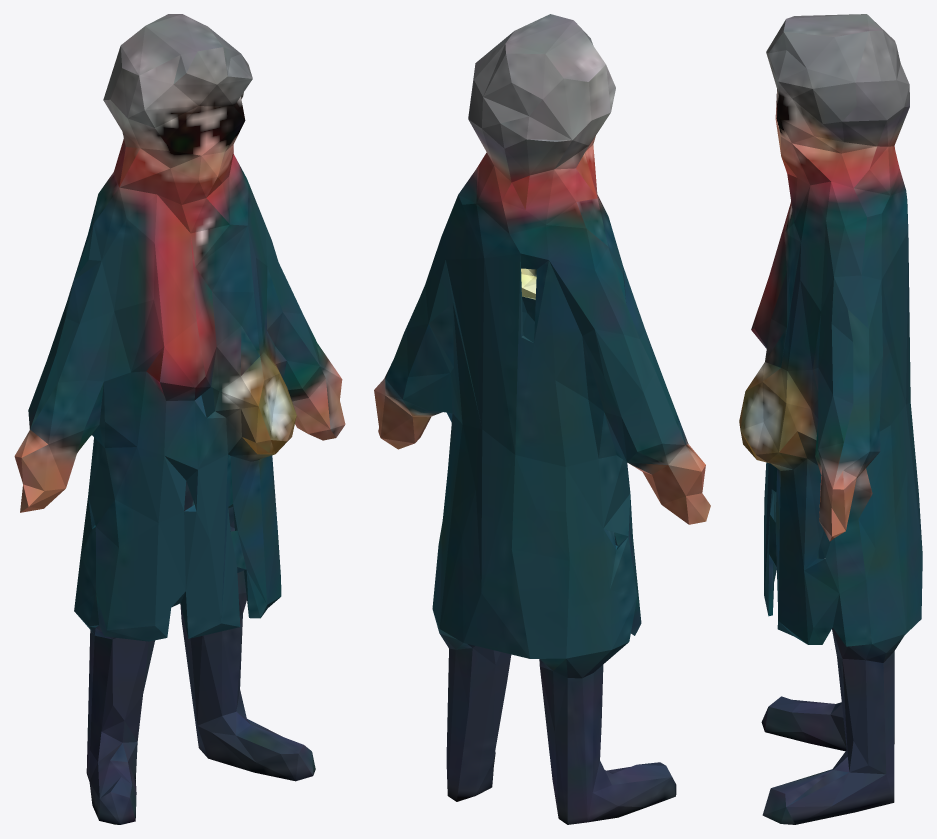
The model's file is habitant-loin.glb.
3 views of the same model, side by side, from view 1: azimuth 30°, elevation 25°; view 2: azimuth 150°, elevation 25°; view 3: azimuth 270°, elevation 25° (orthographic).
Visible parts, largest first — view 1: habitant; view 2: habitant; view 3: habitant.
Part boxes in pixels (x1=…): habitant: x1=14, y1=14, x2=345, y2=824; habitant: x1=374, y1=14, x2=710, y2=824; habitant: x1=739, y1=14, x2=922, y2=824.
Size of the model in its own units: 0.4571 by 1.01 by 0.2221.
1 material, 1 textured.
